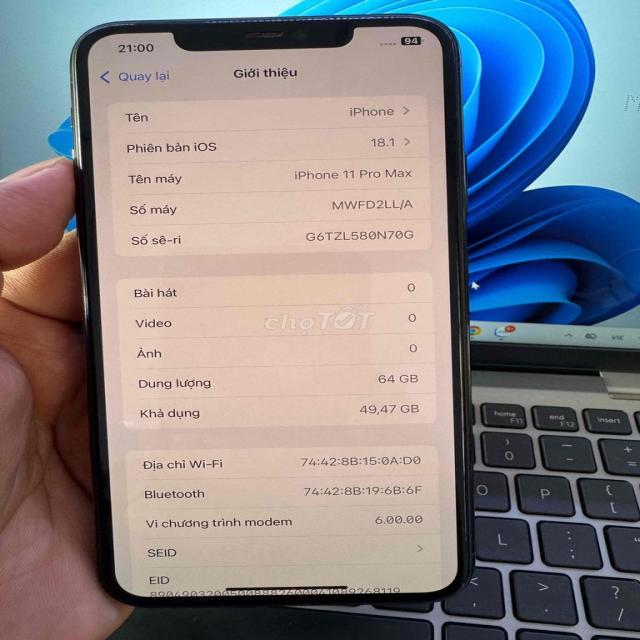gen_11: (60, 10, 504, 613)
